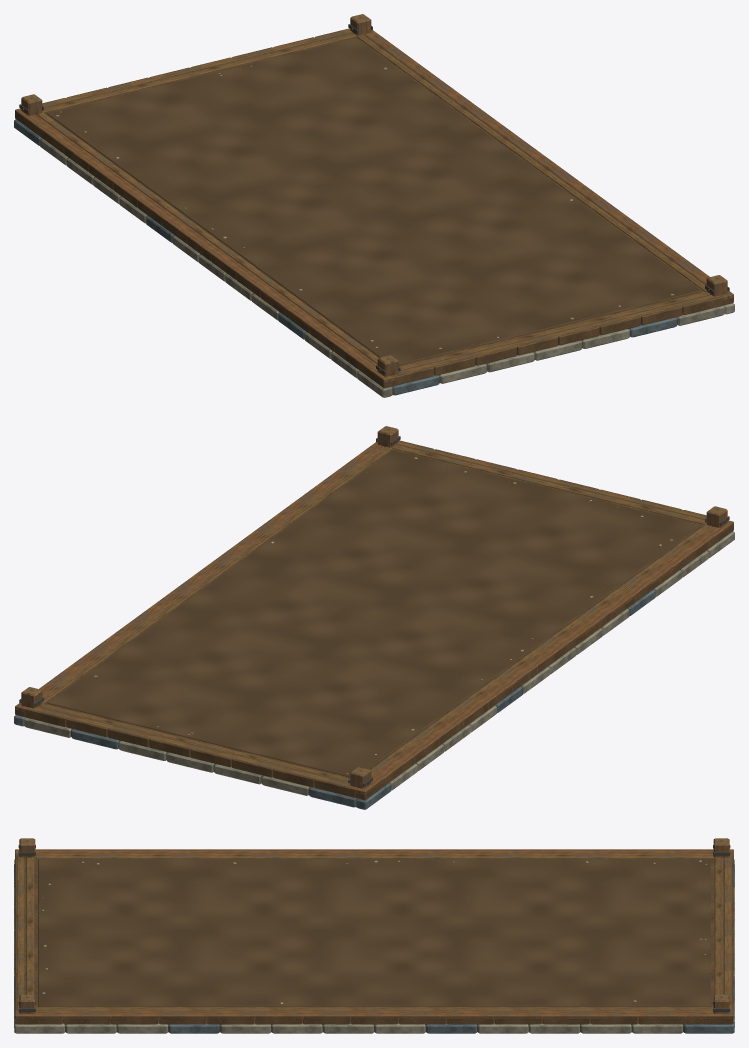
Rendered from arena_02.fbx.
3 views of the same model, one above another, from view 1: azimuth 30°, elevation 25°; view 2: azimuth 150°, elevation 25°; view 3: azimuth 270°, elevation 25° (orthographic). The views are drawn at different scales.
Parts seen in each view (by area): view 1: arena_02; view 2: arena_02; view 3: arena_02.
Part boxes in pixels (x1,y1,x2,y2): arena_02: [14, 14, 734, 397]; arena_02: [14, 426, 734, 809]; arena_02: [14, 838, 734, 1033].
Size of the model in its own units: 55000 by 100000 by 4800.
